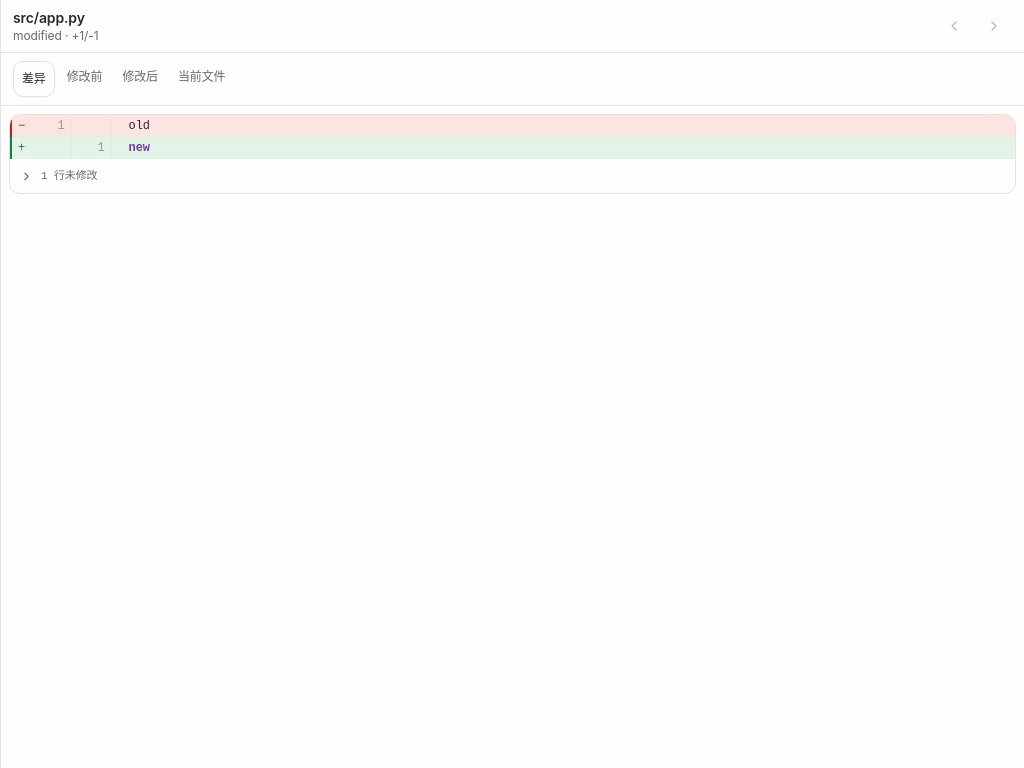
it: turn change review › defaults modified files to diff and can fetch current mode
Click the tab "当前文件" at (202, 77), box [170,61,234,93]
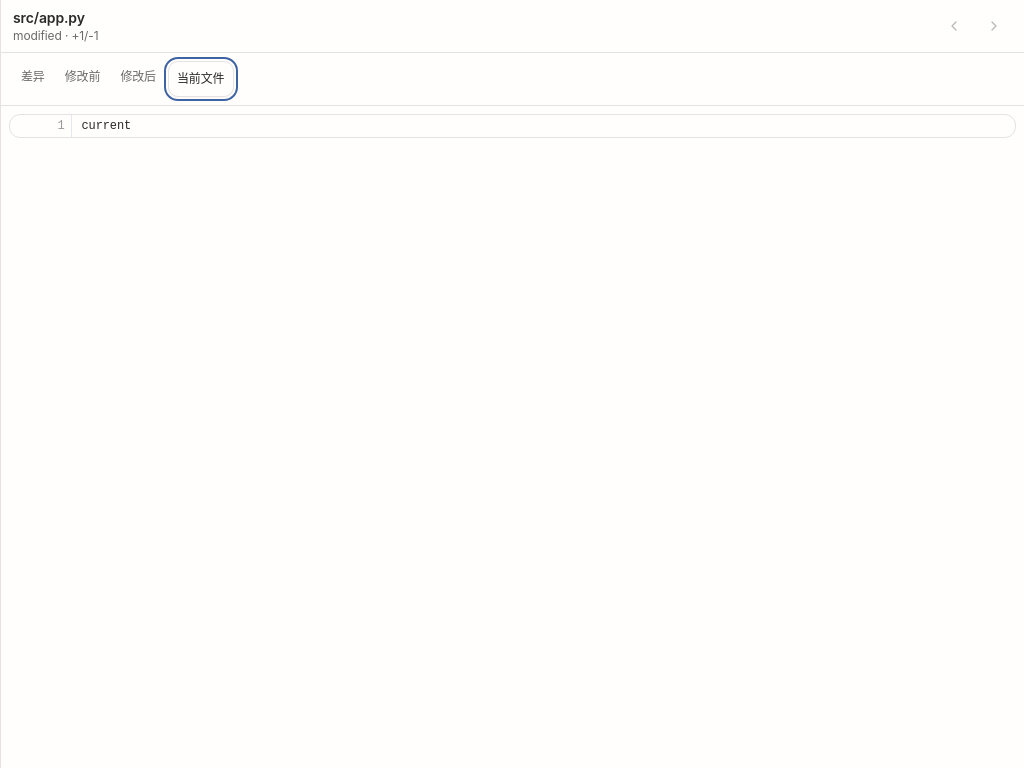
Expected: the text "current" is shown, [82,119,131,133]
